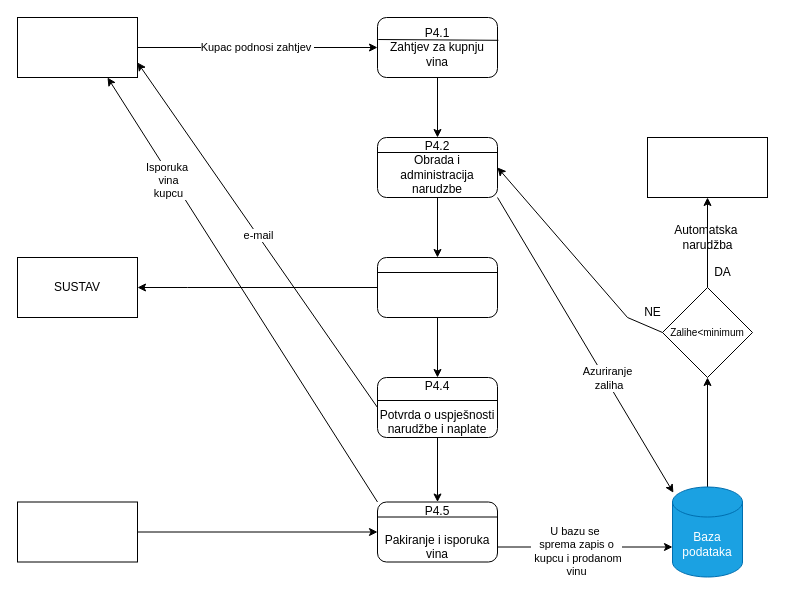
Some shapes in this 785 by 595 pixel diagram are drawn without their labels. The centre of each missing label's shape, as x and y in pixels:
"DJELATNIK" belongs at point (77, 531).
"DOBAVLJAČI" belongs at point (707, 167).
"KUPAC" belongs at point (77, 47).
"P4.3 Izdavanje računa i naplata" belongs at point (437, 287).
